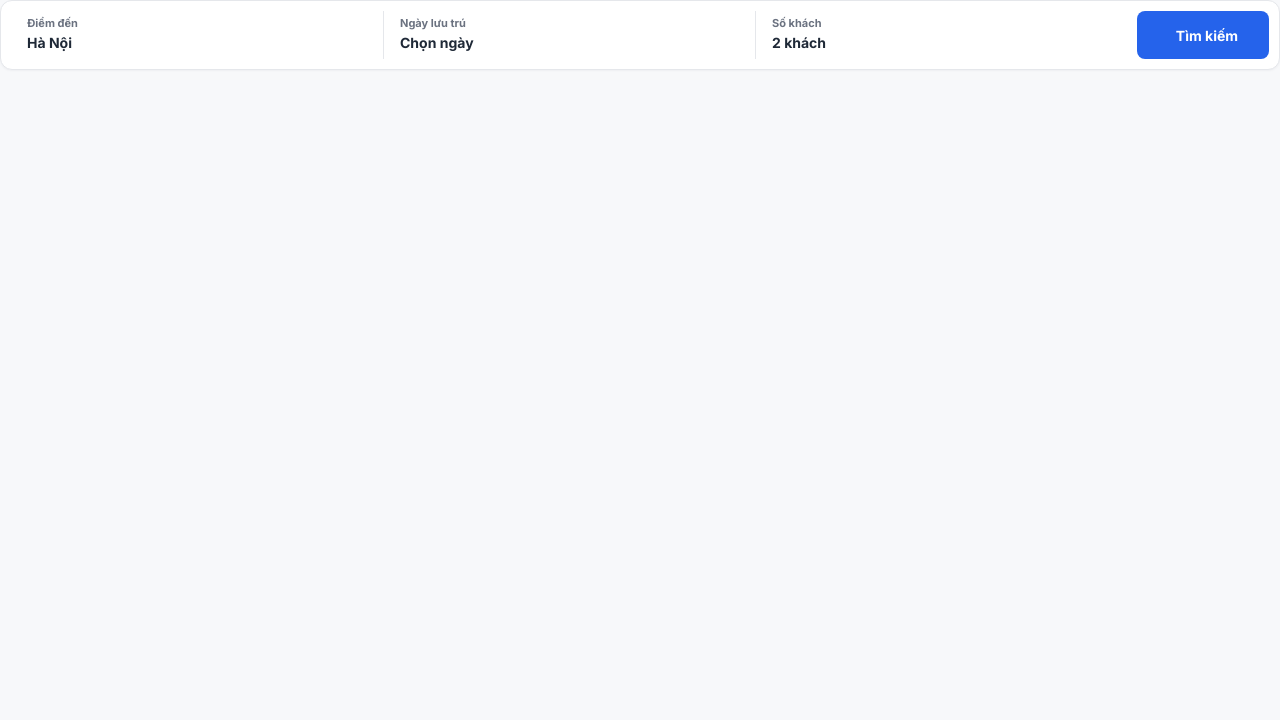
Scenario: TravelSearchBar › rejects an incomplete stay and leaves committed search unchanged
Click the button "Tìm kiếm": {"x": 1203, "y": 35} [1137,11,1269,59]
(page scrolled)
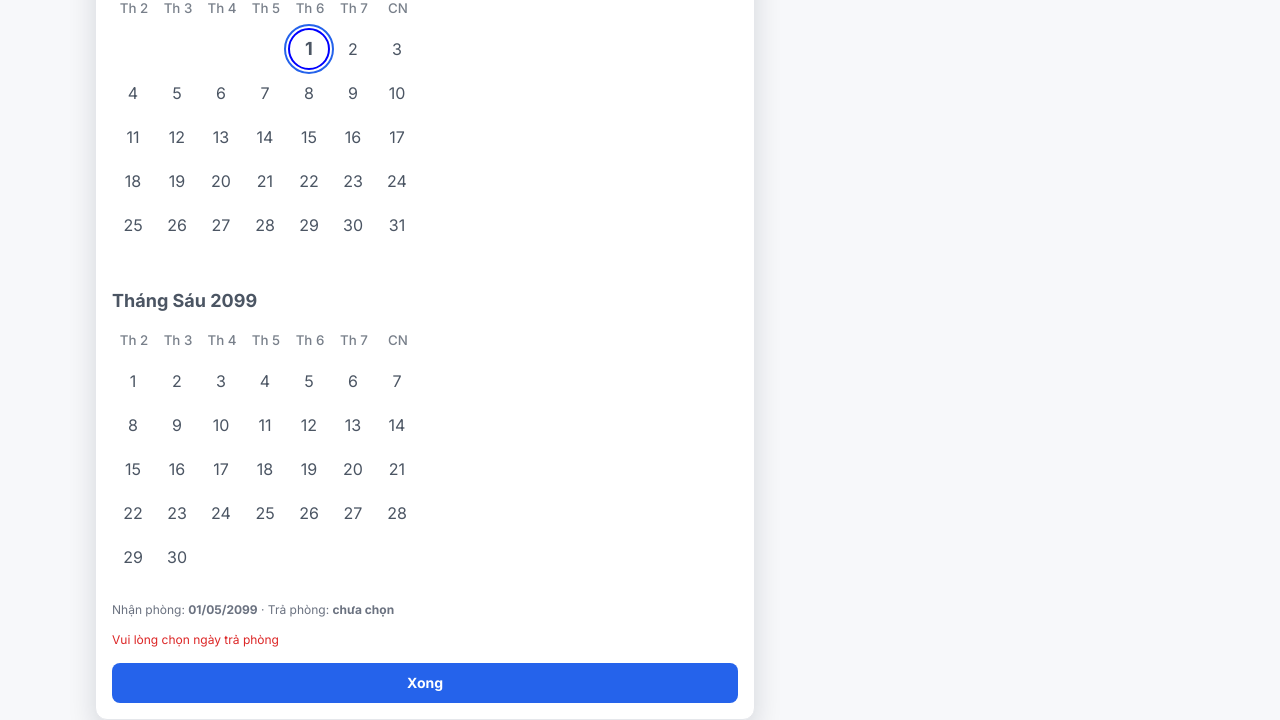
Now the message "Vui lòng chọn ngày trả phòng" is shown, box [112,632,279,647]
